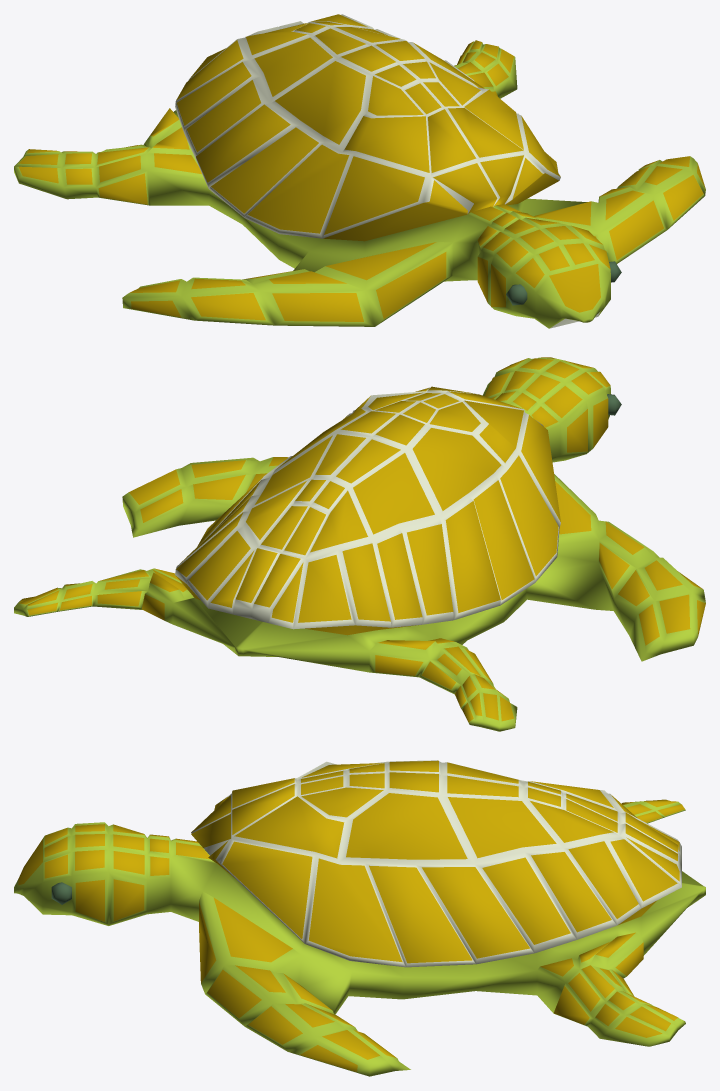
Rendered from GreenSeaTurtle.glb.
3 renders of one model, top to bottom at view 1: azimuth 30°, elevation 25°; view 2: azimuth 150°, elevation 25°; view 3: azimuth 270°, elevation 25°, orthographic.
Visible parts, largest first — view 1: node-0; view 2: node-0; view 3: node-0.
Part boxes in pixels (x1,y1,x2,y2): node-0: (14, 14, 705, 328); node-0: (14, 357, 705, 731); node-0: (14, 760, 705, 1076).
Bounding box in the file's own units: 0.9426 × 0.2841 × 1.
